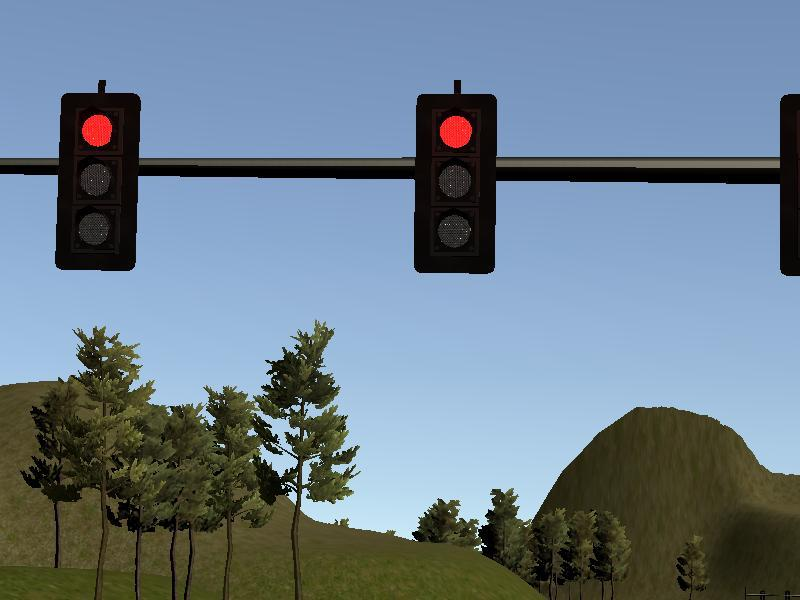Red: (418, 95, 496, 274), (59, 94, 135, 267)
